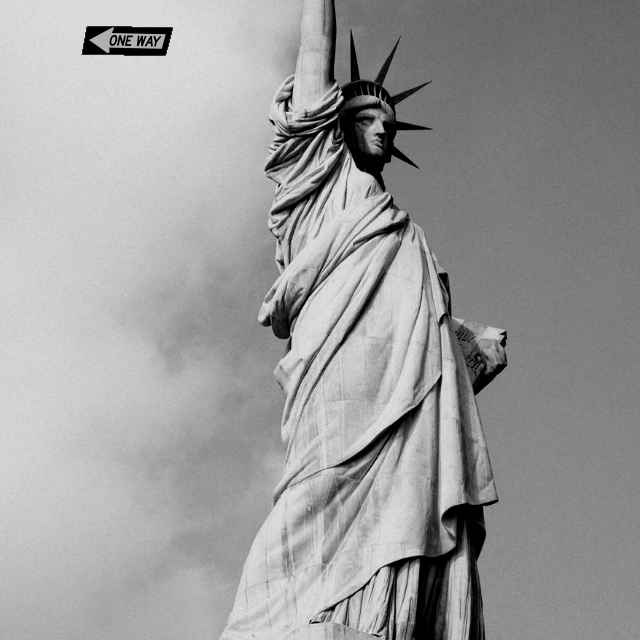ONE_WAY_ left: (81, 25, 173, 56)
